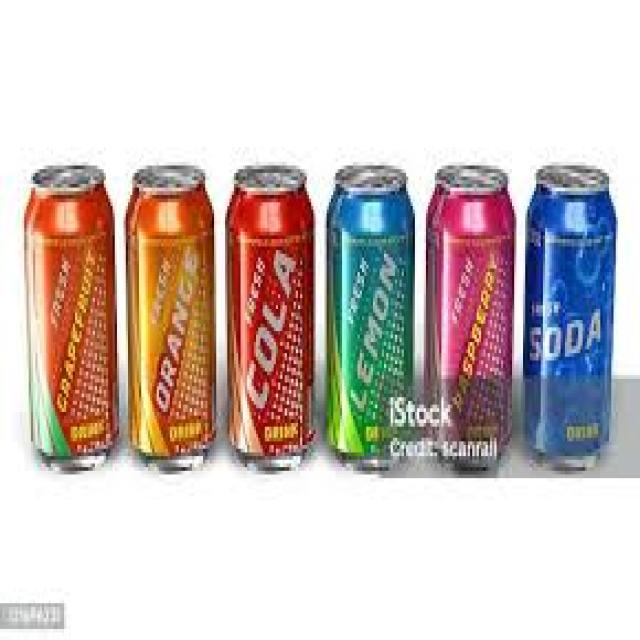Cans: (15, 154, 126, 482), (514, 154, 620, 482), (219, 155, 322, 478), (320, 155, 419, 478), (417, 158, 517, 475), (124, 158, 218, 478)
